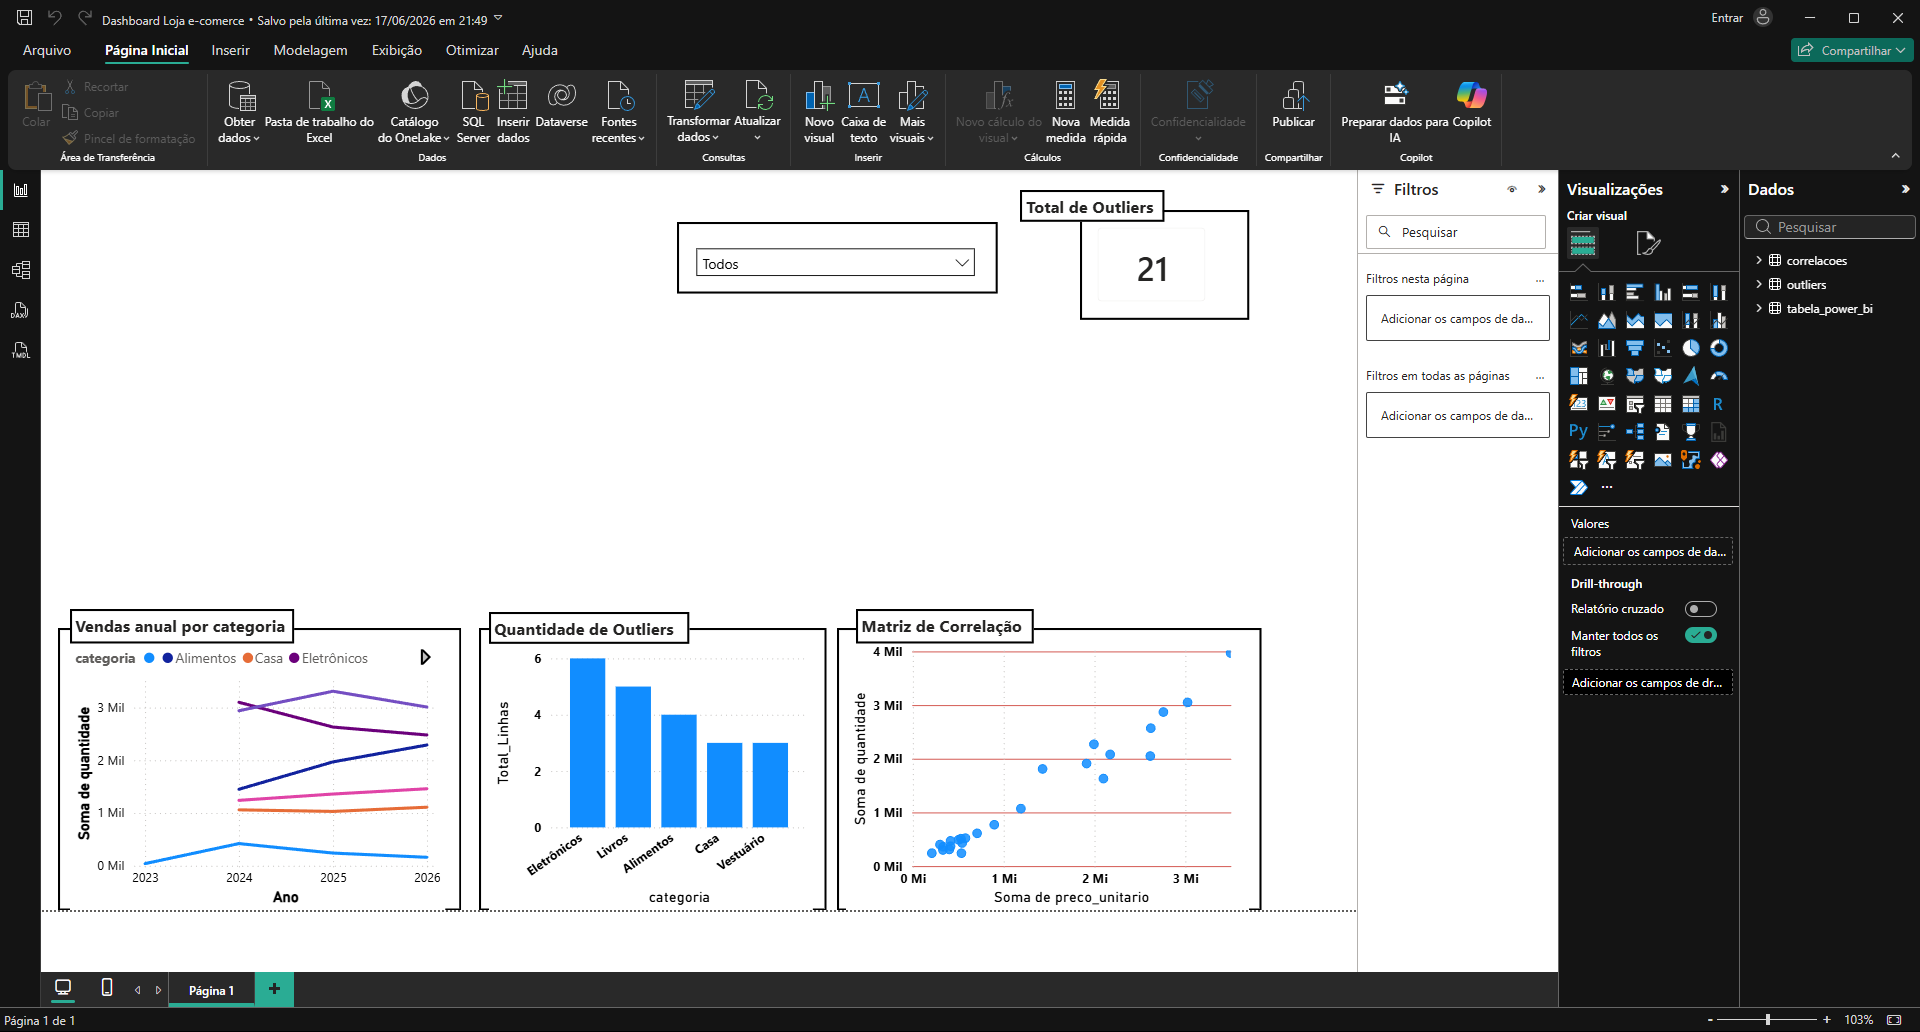

This screenshot's page, from the dashboard's own definition file:
{"tool":"powerbi","page":{"name":"Página 1","canvas":[1280,720],"ordinal":0},"visuals":[{"type":"shape","box":[774.2,445.2,412.9,274.8],"z":500},{"type":"shape","box":[425.8,445.2,338.1,274.8],"z":750},{"type":"shape","box":[16.8,445.2,392.3,274.8],"z":875},{"type":"lineChart","fields":{"Series":["tabela_power_bi.categoria"],"Y":["Sum(tabela_power_bi.quantidade)"],"Category":["tabela_power_bi.data_venda_formatada.Variation.Hierarquia de datas.Ano"]},"box":[28.4,454.2,365.2,265.8],"z":1000},{"type":"columnChart","fields":{"Category":["outliers.categoria"],"Y":["outliers.Total_Linhas"]},"box":[436.1,460.6,314.8,259.4],"z":2000},{"type":"scatterChart","fields":{"X":["Sum(tabela_power_bi.preco_unitario)"],"Y":["Sum(tabela_power_bi.quantidade)"],"Category":["tabela_power_bi.nome_produto"]},"box":[783.2,454.2,392.3,265.8],"z":3000},{"type":"cardVisual","fields":{"Data":["outliers.Total_Linhas"]},"box":[1010.7,39.3,139.6,106.8],"z":4000},{"type":"shape","box":[1010.7,39.3,164.6,106.8],"z":5000},{"type":"textbox","box":[952.9,19.6,138.5,30.5],"z":6000},{"type":"shape","box":[618.7,50.3,311.9,69.6],"z":7000},{"type":"slicer","fields":{"Values":["tabela_power_bi.Prejuizo_Identificado"]},"box":[627.8,65.7,291.3,43.8],"z":8000},{"type":"shape","box":[952.6,19.3,140.5,30.9],"z":9000},{"type":"textbox","box":[436.1,429.7,194.8,31],"z":9001},{"type":"shape","box":[436.1,429.7,194.8,31],"z":9002},{"type":"textbox","box":[28.4,427.1,218.1,33.5],"z":9003},{"type":"shape","box":[28.4,427.1,218.1,33.5],"z":9004},{"type":"textbox","box":[792.3,427.1,172.9,33.5],"z":9005},{"type":"shape","box":[792.3,427.1,172.9,33.5],"z":9006}]}

Visuals, with their boxes on the page's 1280x720 design canvas (x1, y1, x2, y2). These are canvas units, not pixel positions in the 1920x1032 screenshot, which may show the page scaled, cropped or inside an application window:
shape: l=774, t=445, r=1187, b=720
shape: l=426, t=445, r=764, b=720
shape: l=17, t=445, r=409, b=720
lineChart - tabela_power_bi.categoria x Sum(tabela_power_bi.quantidade): l=28, t=454, r=394, b=720
columnChart - outliers.categoria x outliers.Total_Linhas: l=436, t=461, r=751, b=720
scatterChart - Sum(tabela_power_bi.preco_unitario) x Sum(tabela_power_bi.quantidade): l=783, t=454, r=1176, b=720
cardVisual - outliers.Total_Linhas: l=1011, t=39, r=1150, b=146
shape: l=1011, t=39, r=1175, b=146
textbox: l=953, t=20, r=1091, b=50
shape: l=619, t=50, r=931, b=120
slicer - tabela_power_bi.Prejuizo_Identificado: l=628, t=66, r=919, b=110
shape: l=953, t=19, r=1093, b=50
textbox: l=436, t=430, r=631, b=461
shape: l=436, t=430, r=631, b=461
textbox: l=28, t=427, r=246, b=461
shape: l=28, t=427, r=246, b=461
textbox: l=792, t=427, r=965, b=461
shape: l=792, t=427, r=965, b=461
